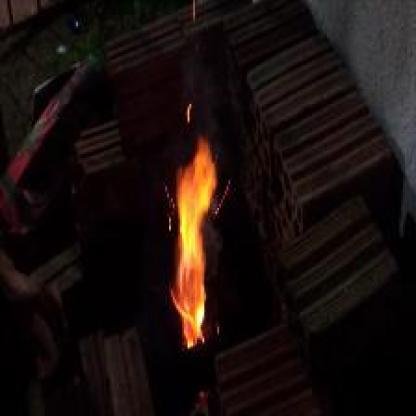fire: (163, 120, 230, 355)
